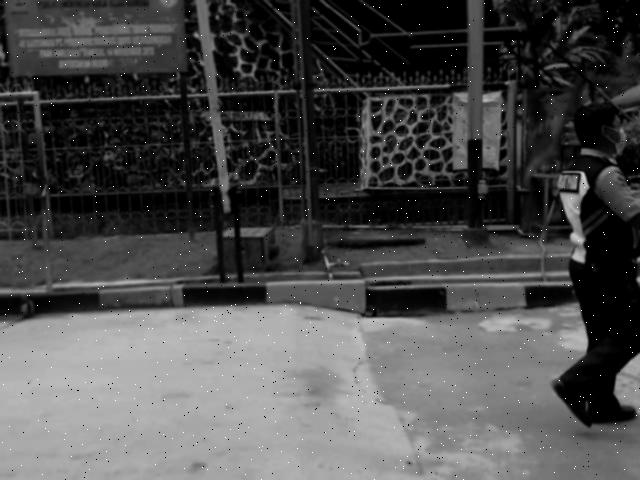mask: (616, 130, 627, 153)
safety-shoes: (545, 371, 603, 433), (587, 398, 638, 426)
